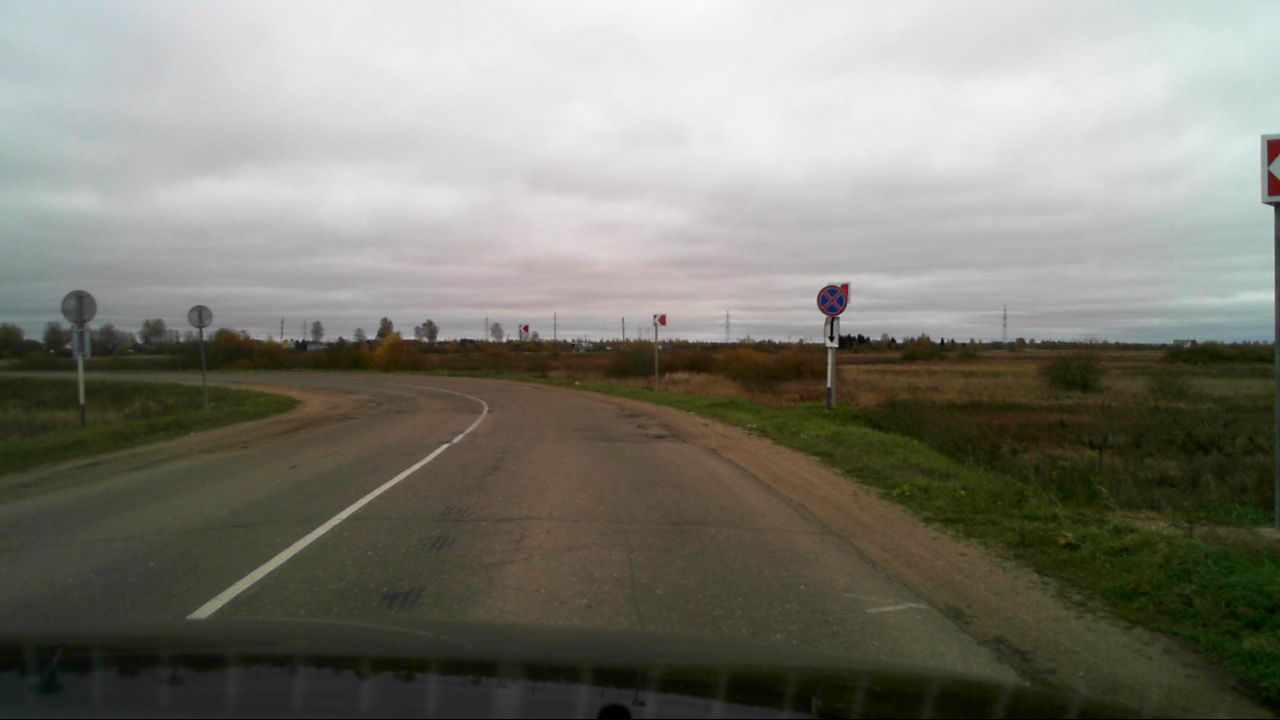No Parking: (816, 285, 847, 315)
